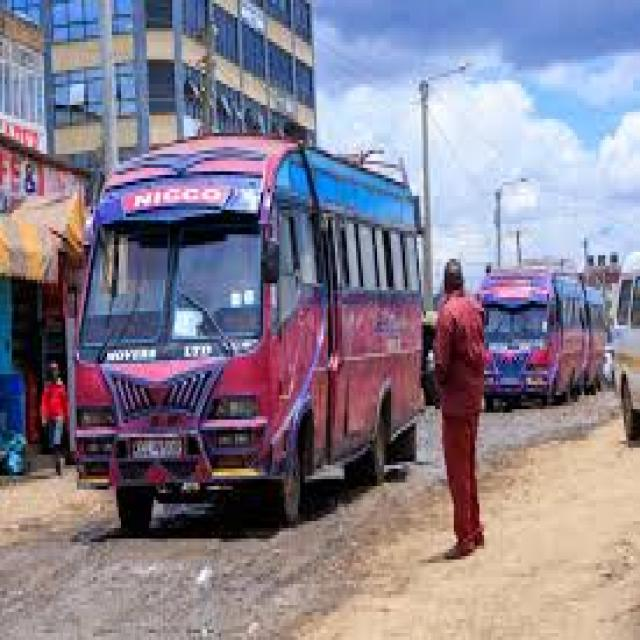bus: (44, 83, 437, 538)
